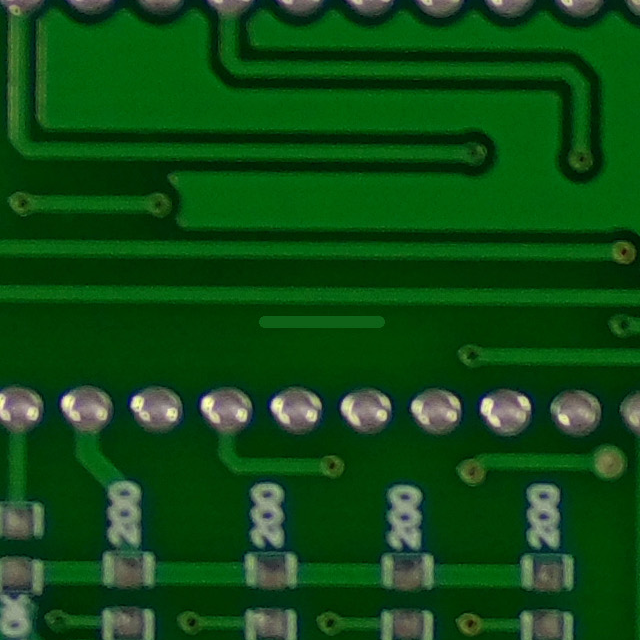spurious_copper: (246, 294, 394, 347)
